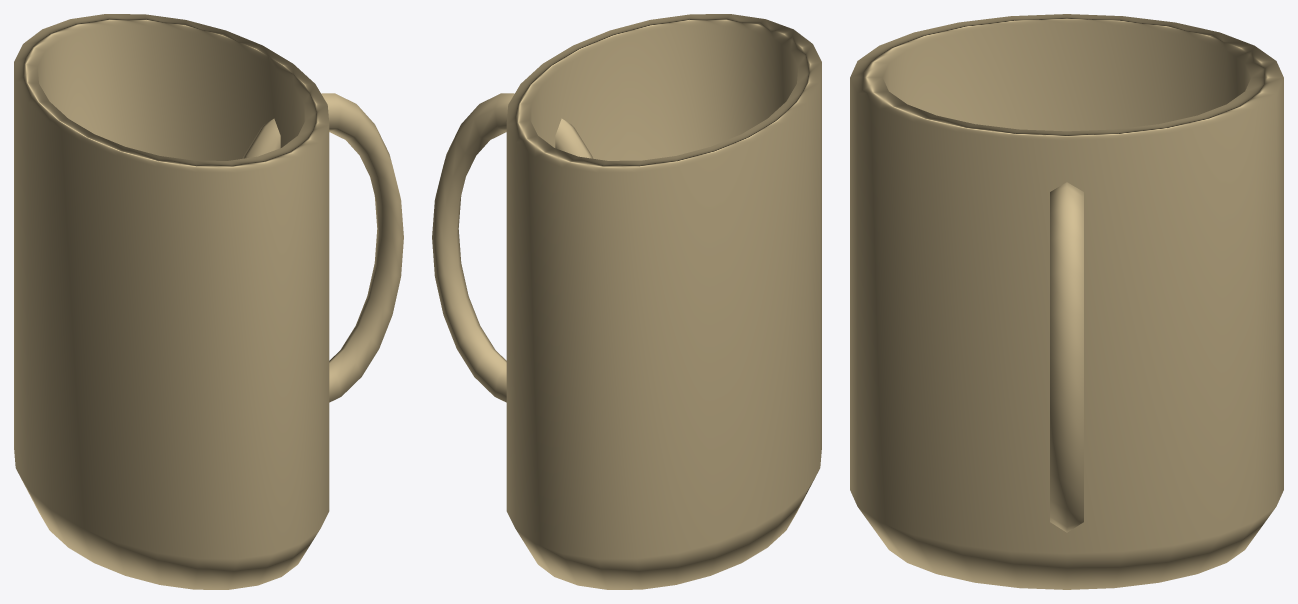
3 views of the same model, side by side, from view 1: azimuth 30°, elevation 25°; view 2: azimuth 150°, elevation 25°; view 3: azimuth 270°, elevation 25° (orthographic). The views are drawn at different scales.
Parts seen in each view (by area): view 1: a-cup; view 2: a-cup; view 3: a-cup.
Boxes of the visible parts, left/top/right/bottom form: a-cup: left=14, top=14, right=403, bottom=589; a-cup: left=432, top=14, right=821, bottom=589; a-cup: left=850, top=14, right=1283, bottom=589.
Bounding box in the file's own units: 0.12 × 0.14 × 0.12.
